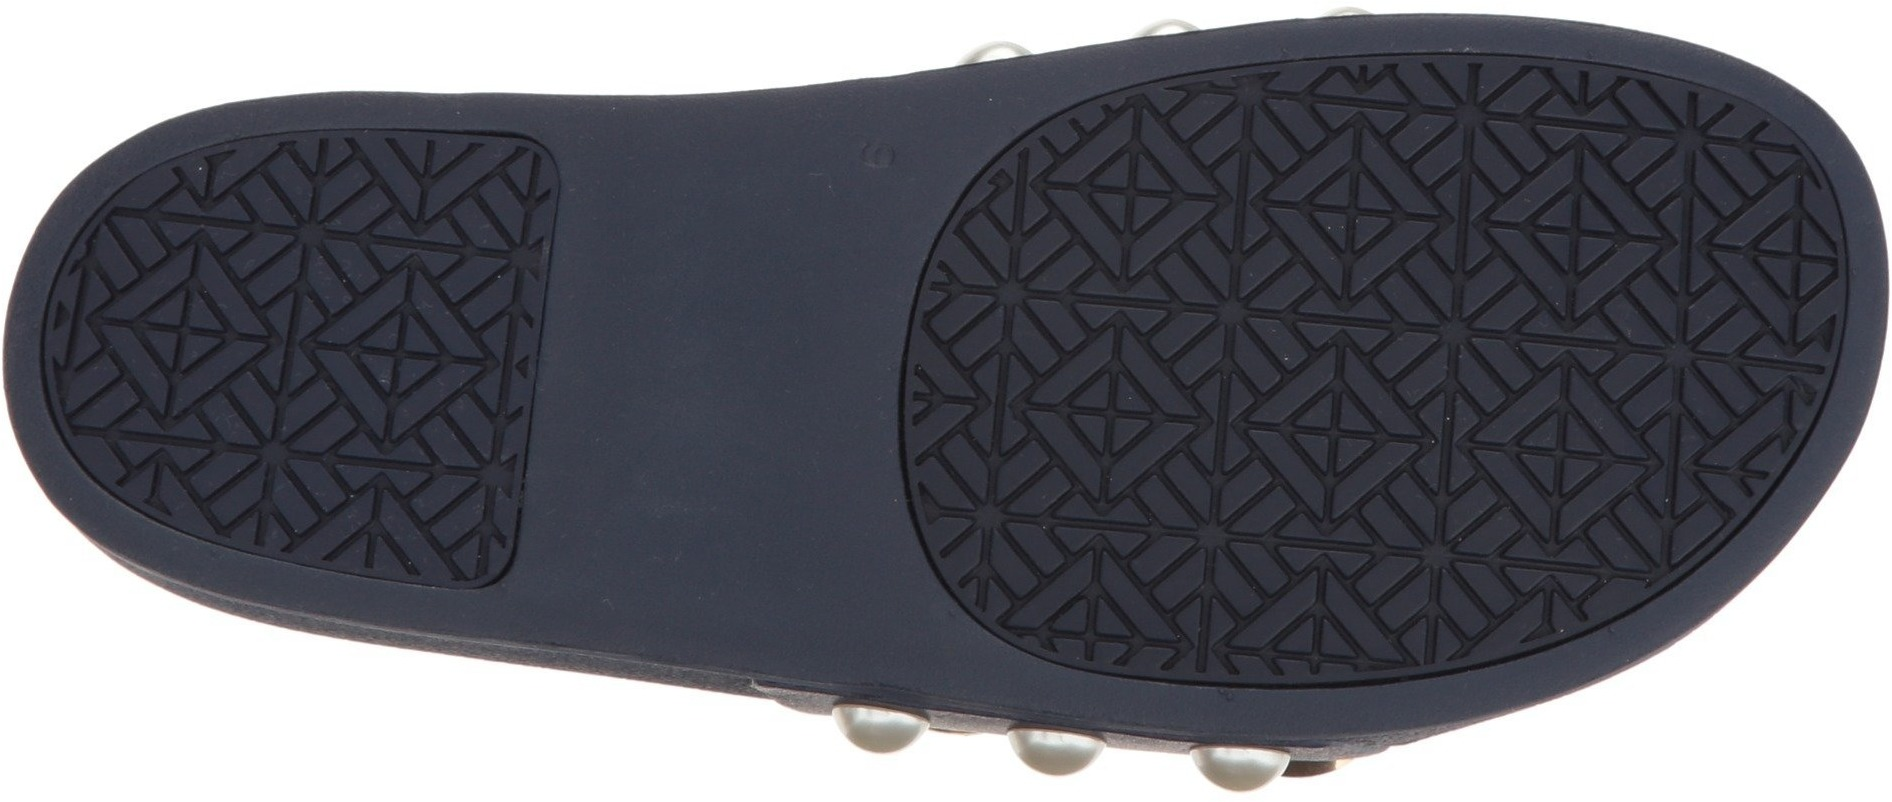other: (561, 183, 875, 487), (716, 494, 898, 665)
quad: (1351, 106, 1744, 502), (983, 185, 1336, 535), (123, 191, 465, 510)
triangle: (1351, 106, 1744, 502), (983, 185, 1336, 535), (123, 191, 465, 510)
